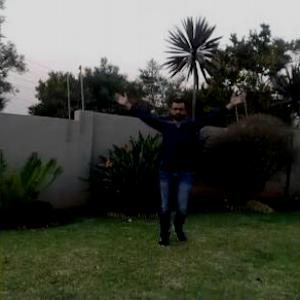takeoff: (111, 92, 264, 248)
